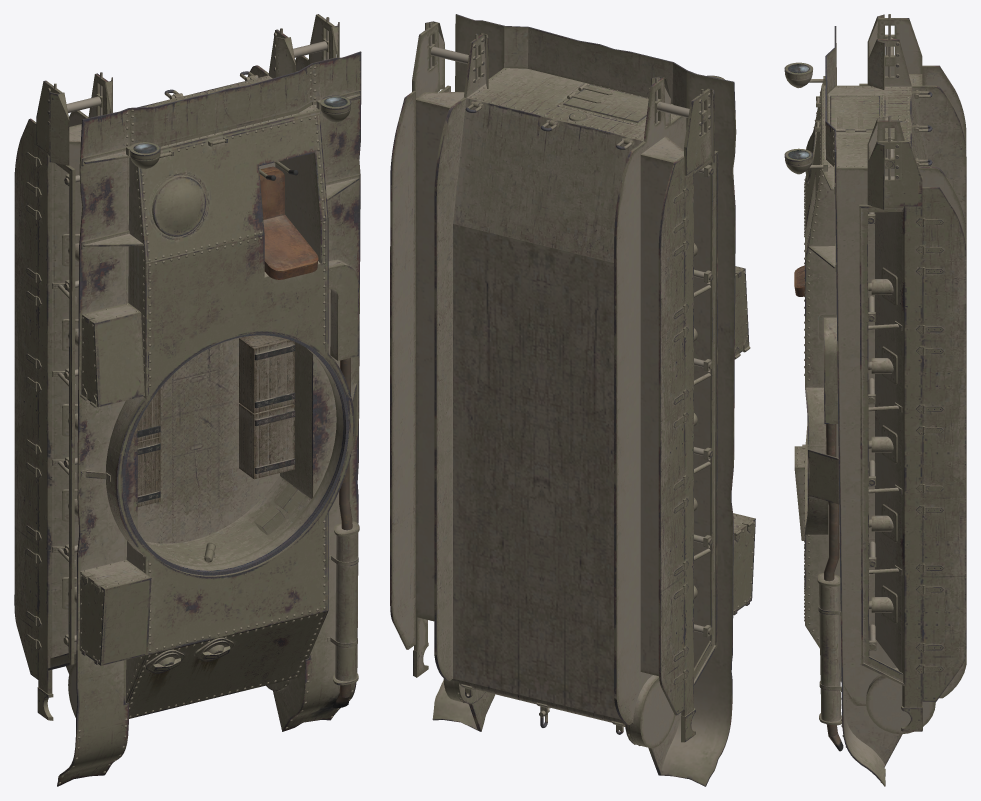
Rendered from Hull.glb.
3 renders of one model, left to right at view 1: azimuth 30°, elevation 25°; view 2: azimuth 150°, elevation 25°; view 3: azimuth 270°, elevation 25°, orthographic. The views are drawn at different scales.
Visible parts, largest first — view 1: set_0_group_0; view 2: set_0_group_0; view 3: set_0_group_0.
Boxes of the visible parts, left/top/right/bottom form: set_0_group_0: left=14, top=14, right=361, bottom=786; set_0_group_0: left=390, top=14, right=755, bottom=786; set_0_group_0: left=784, top=14, right=966, bottom=786.
Bounding box in the file's own units: 2.48 × 5.71 × 1.45.
1 material, 1 textured.
